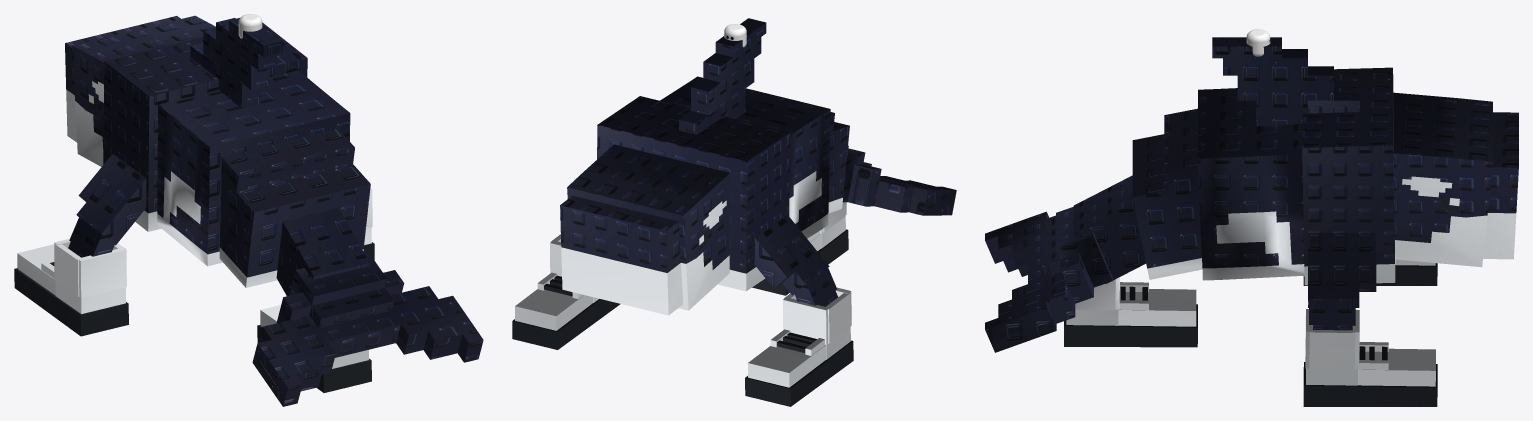
File: Jorge_23265.obj
The picture shows the model from 3 angles, left to right: view 1: azimuth 30°, elevation 25°; view 2: azimuth 150°, elevation 25°; view 3: azimuth 270°, elevation 25°; orthographic projection. The views are drawn at different scales.
Visible parts, largest first — view 1: Handle1, Player1; view 2: Handle1; view 3: Handle1, Player1.
Part boxes in pixels (left/top/right/bottom): Handle1: left=14, top=15, right=483, bottom=406; Player1: left=238, top=14, right=262, bottom=38; Handle1: left=512, top=18, right=956, bottom=406; Handle1: left=985, top=37, right=1518, bottom=406; Player1: left=1246, top=29, right=1270, bottom=56.
Bounding box in the file's own units: 4.4 × 4.45 × 6.88.
